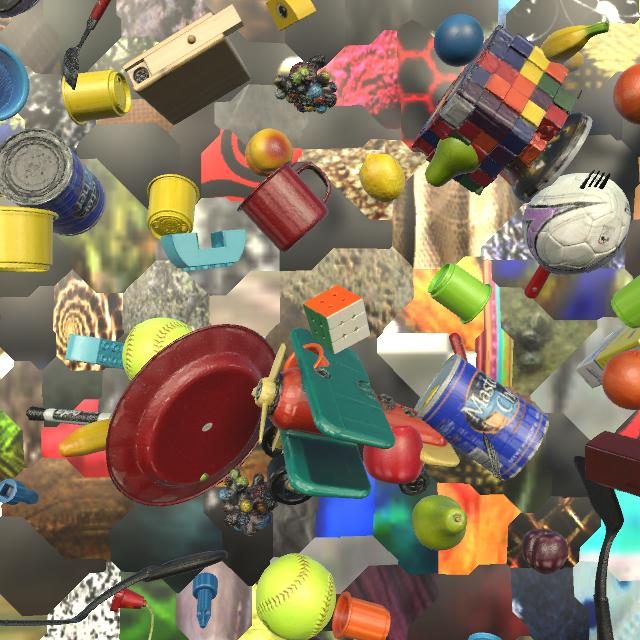ycb_002_master_chef_can: (414, 354, 549, 481), (0, 128, 106, 236)
ycb_004_sugar_box: (576, 325, 640, 388)
ycb_011_banana: (58, 419, 209, 482), (540, 21, 609, 73)
ycb_013_apple: (363, 425, 424, 484)
ycb_014_lemon: (359, 154, 405, 203)
ycb_015_peach: (245, 129, 293, 177)
ycb_016_pear: (412, 495, 467, 551), (425, 137, 481, 187)
ycb_017_orange: (601, 350, 640, 410), (613, 63, 640, 125)
ycb_018_plum: (521, 529, 569, 575), (308, 636, 323, 640)
